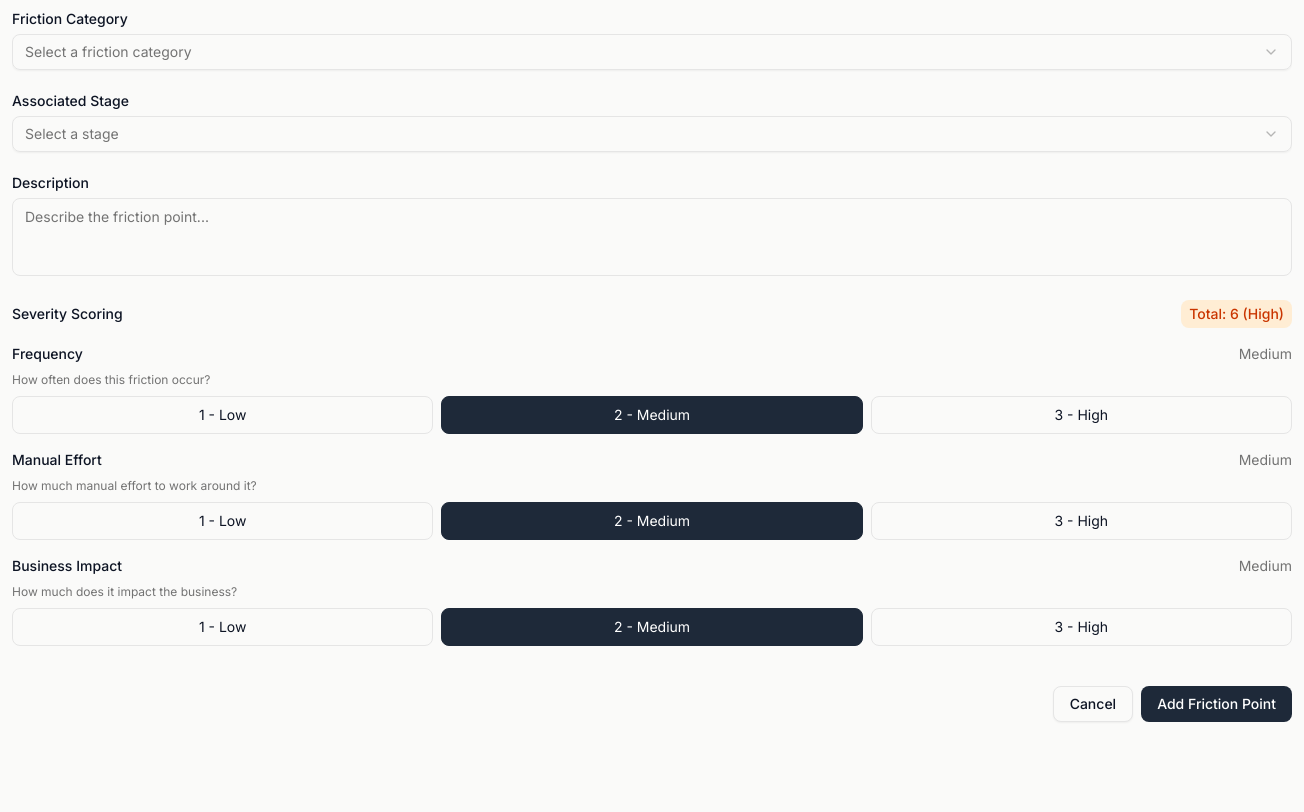
FrictionForm › clears error when description is typed
Submit empty to show error
Click the button "Add Friction Point" at x=1217, y=704, box [1141,686,1292,722]
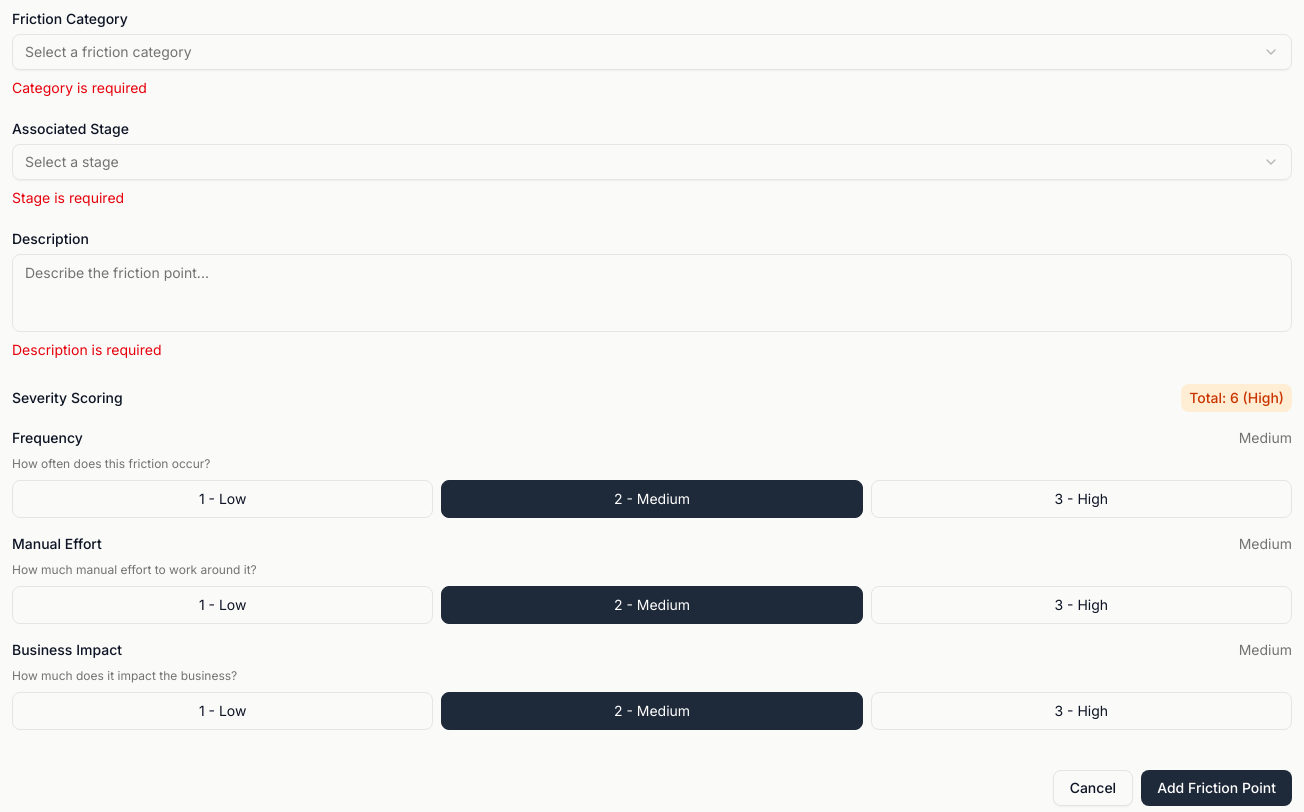
Expected: the text "Description is required" is shown, [12,341,162,358]
Type in description
Type "Valid description" into the text box labelled "Description" at x=652, y=293, box [12,254,1292,332]
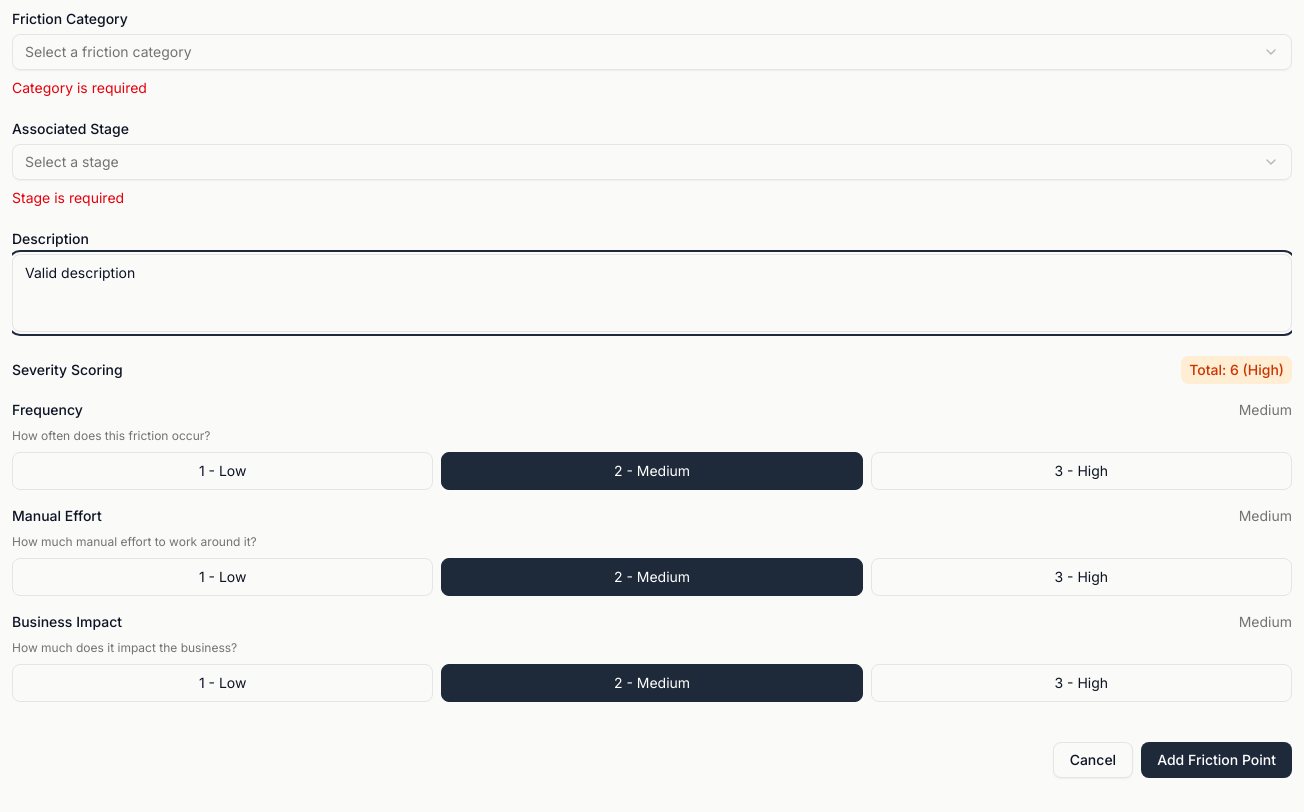
Expected: the text "Description is required" is gone
